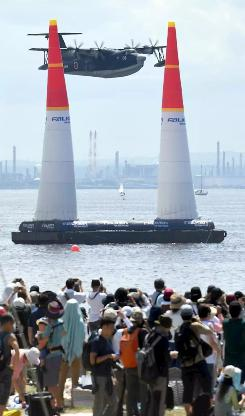Tu95: (26, 32, 165, 78)
